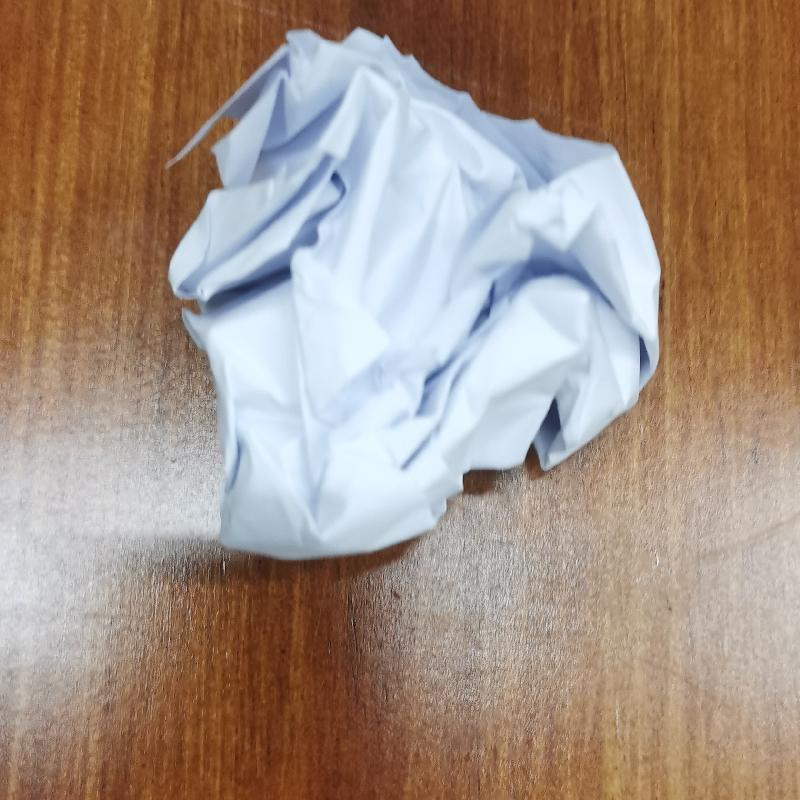spitball: (159, 21, 677, 566)
